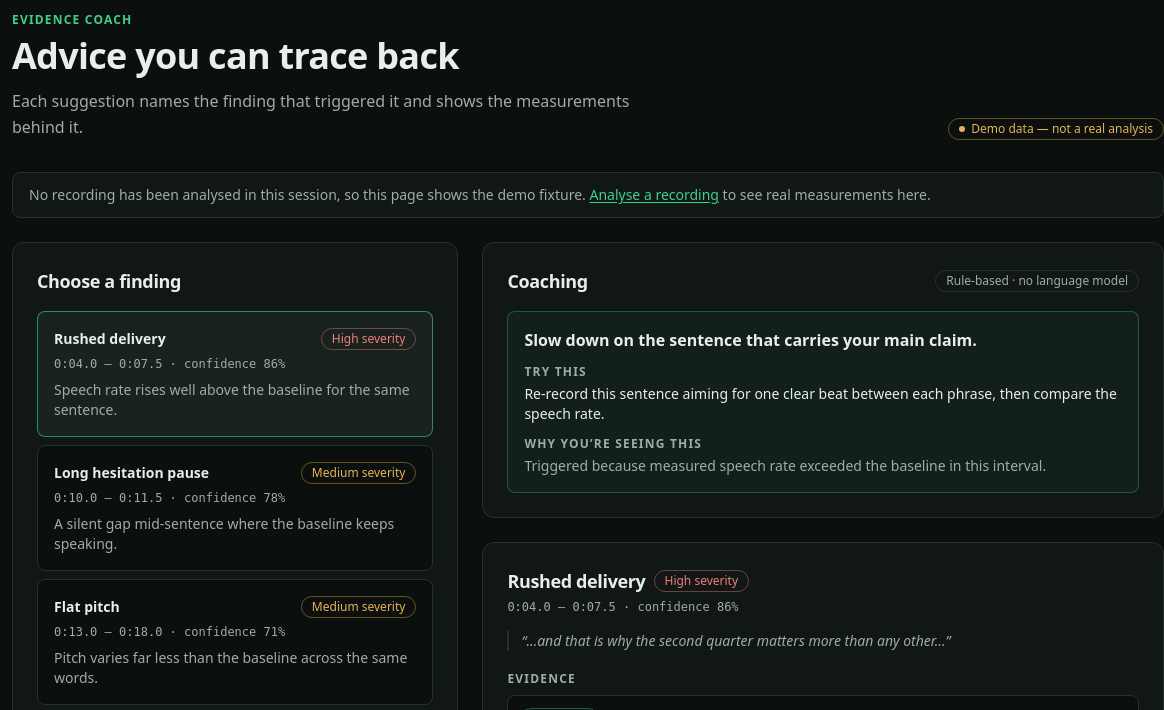
Test case: Evidence Coach › shows rule-based advice with its rationale for the chosen finding
The image size is (1164, 710).
Expected: the text "Slow down on the sentence that carries your main claim." is shown, [524,329,977,351]
Expected: the text "Rule-based · no language model" is shown, [935,270,1139,292]
Click the button "Long hesitation pause". click: [235, 508]
box: [37,445,433,571]
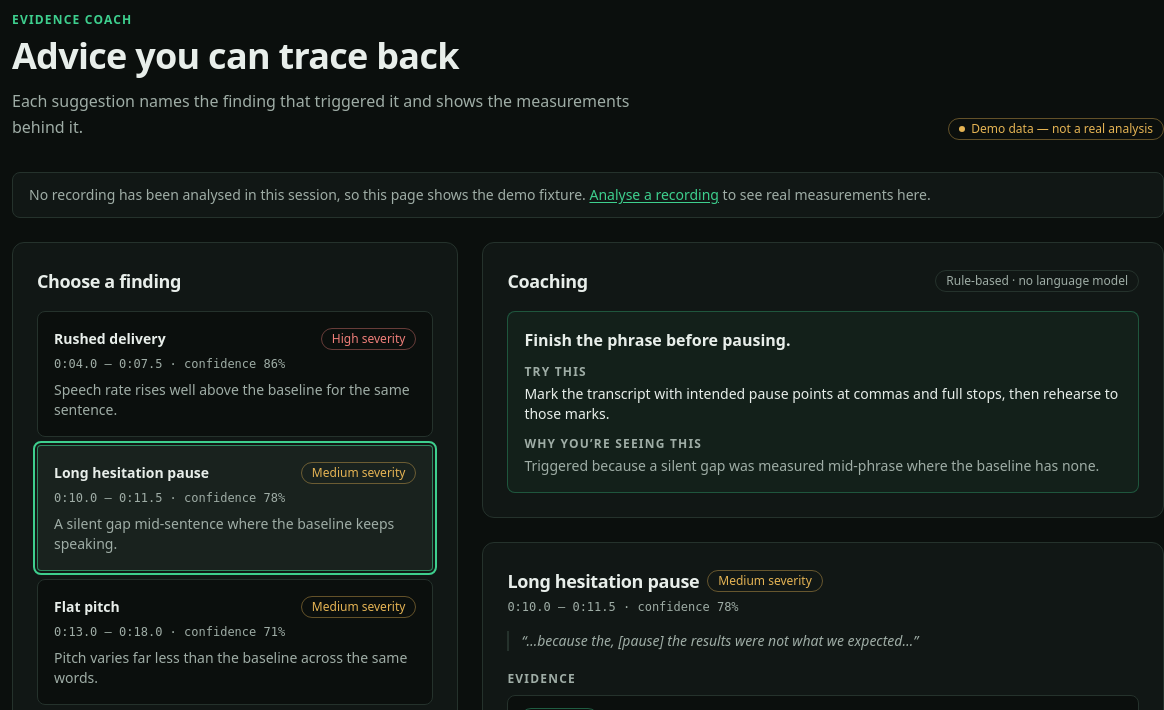
Expected: the text "Finish the phrase before pausing." is shown, [524,329,791,351]
Expected: the text "silent gap was measured mid-phrase" is shown, [524,456,1099,475]
